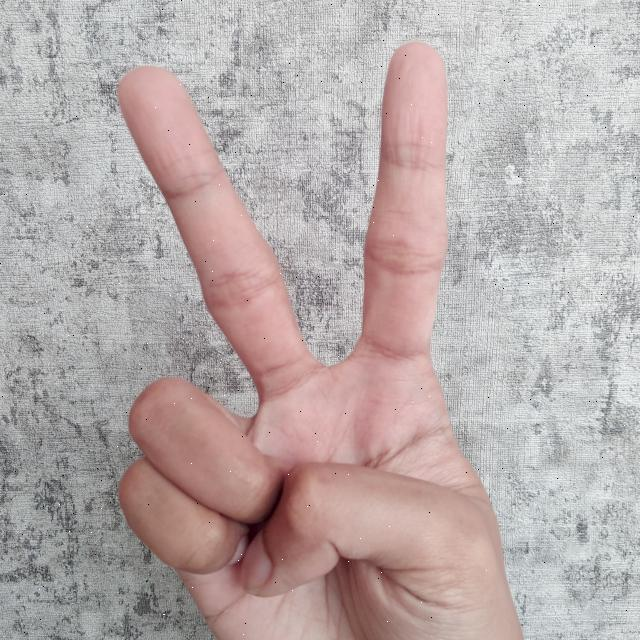V: (94, 35, 525, 640)
